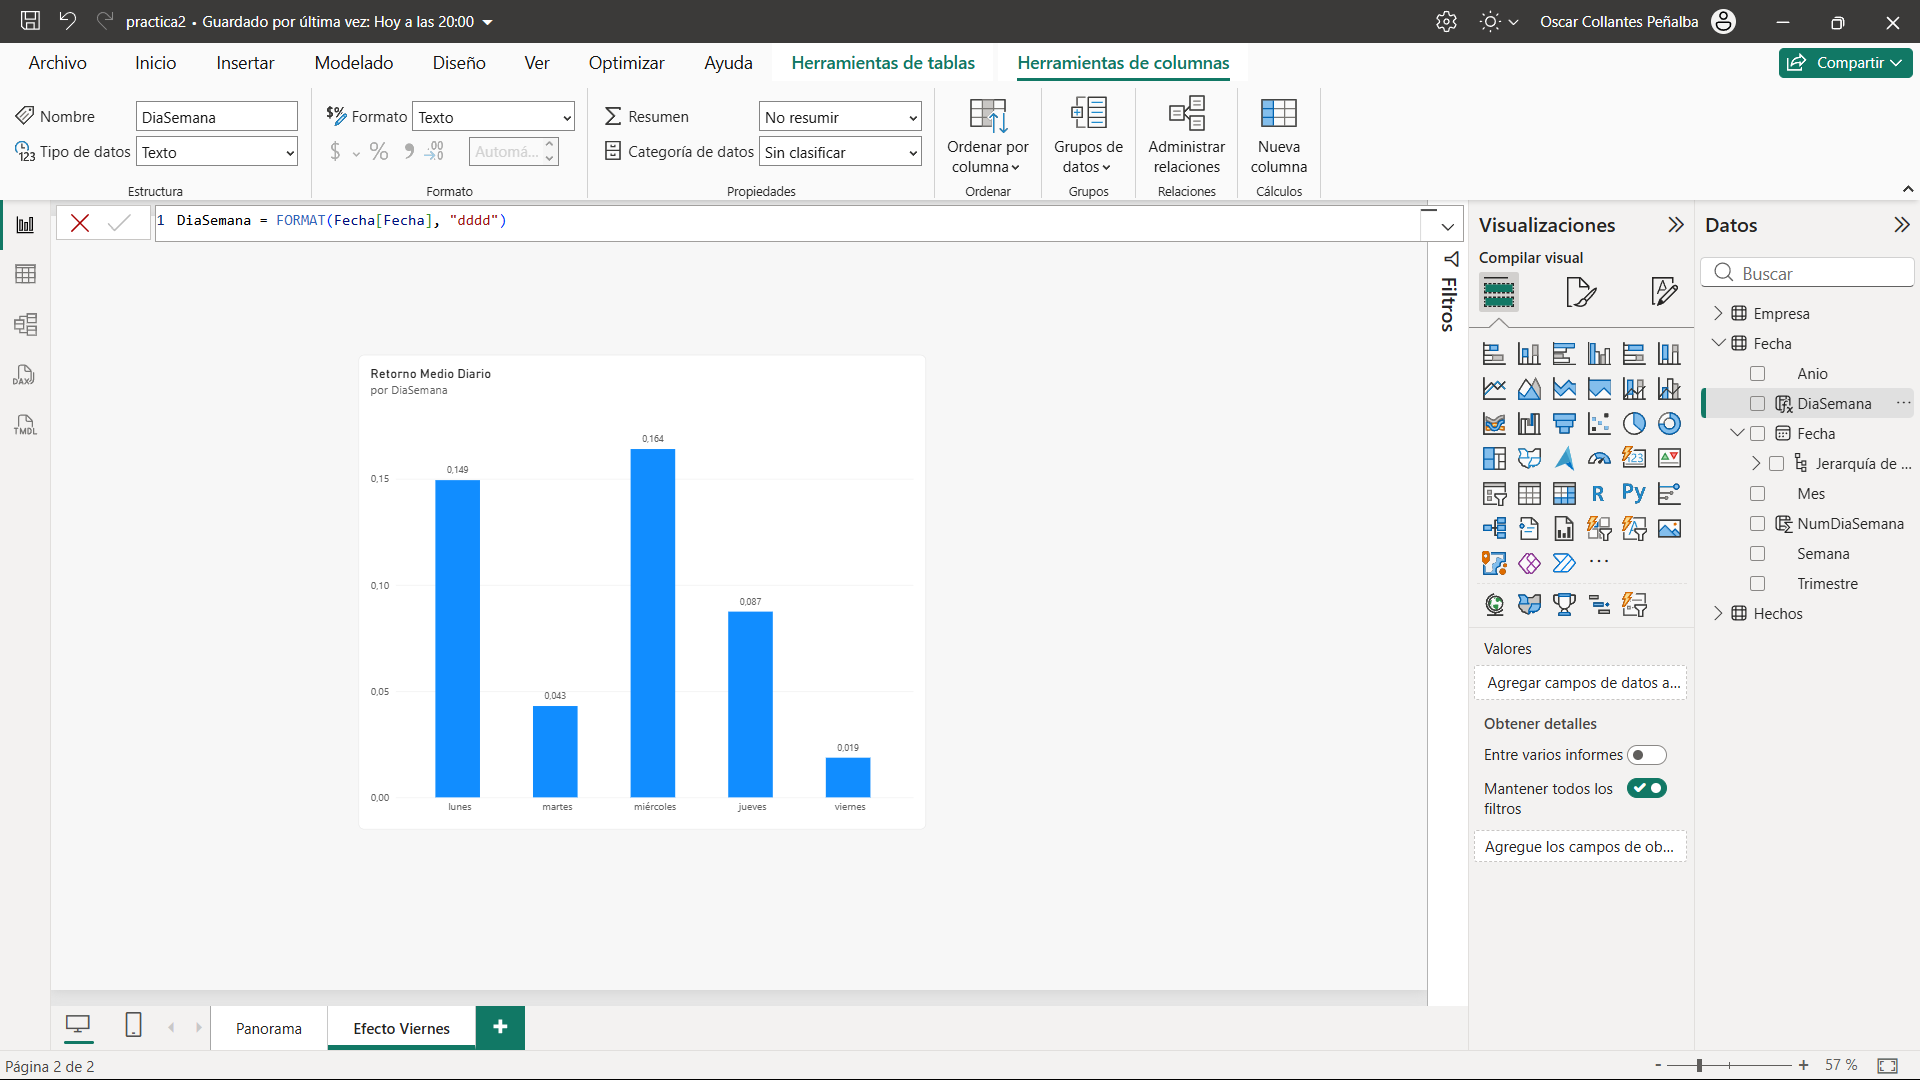

The dashboard page shown, as its layout file describes it:
{"tool":"powerbi","page":{"name":"Efecto Viernes","canvas":[1920,1080],"ordinal":1},"visuals":[{"type":"clusteredColumnChart","fields":{"Category":["Fecha.DiaSemana"],"Y":["Hechos.Retorno Medio Diario"]},"box":[409.9,87.2,821.5,664.5],"z":0}]}

Visuals, with their boxes on the page's 1920x1080 design canvas (x1, y1, x2, y2). These are canvas units, not pixel positions in the 1920x1080 screenshot, which may show the page scaled, cropped or inside an application window:
clusteredColumnChart - Fecha.DiaSemana x Hechos.Retorno Medio Diario: [410,87,1231,752]
